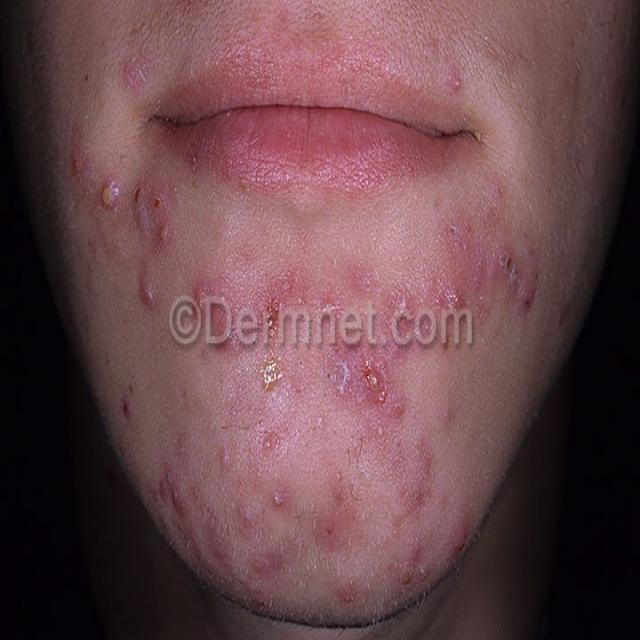blackheads: (359, 360, 388, 398), (136, 260, 156, 311), (98, 176, 124, 214), (444, 64, 466, 94), (266, 485, 288, 511), (260, 430, 280, 457), (219, 437, 233, 471), (168, 483, 185, 511), (120, 398, 132, 422), (157, 221, 168, 247), (415, 562, 426, 578)
